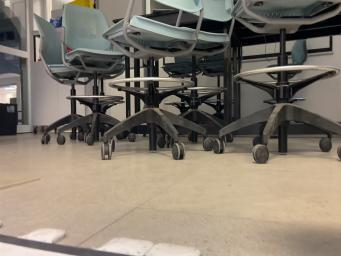street: (0, 234, 124, 256), (0, 234, 124, 256), (0, 234, 124, 256), (0, 234, 124, 256), (0, 234, 124, 256)
